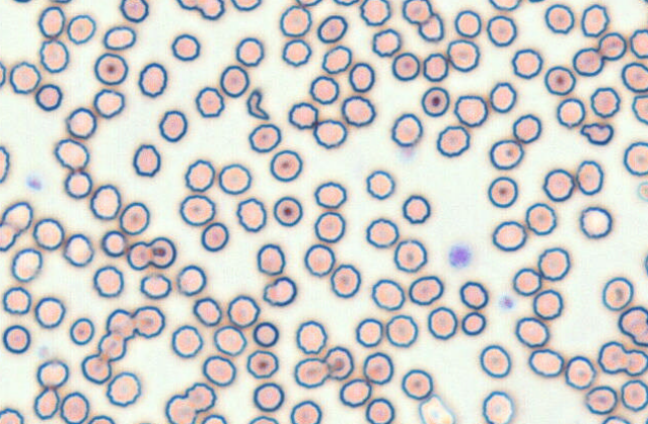PLT: (448, 242, 473, 269), (26, 172, 42, 191), (499, 293, 516, 310)
RBC: (105, 371, 141, 407), (617, 305, 648, 345), (53, 138, 89, 171), (226, 294, 260, 328), (393, 238, 427, 272), (390, 112, 423, 147), (453, 94, 488, 127), (93, 52, 128, 85), (89, 184, 121, 220), (179, 194, 215, 226), (131, 305, 165, 338), (170, 324, 203, 358), (537, 247, 570, 281), (436, 124, 470, 157), (542, 168, 575, 202), (601, 276, 633, 311), (370, 278, 405, 310), (329, 263, 361, 298), (340, 95, 375, 127), (293, 357, 329, 388), (491, 220, 527, 251), (481, 390, 514, 423), (385, 314, 418, 347), (579, 205, 612, 238), (446, 39, 479, 72), (269, 149, 302, 182), (564, 355, 596, 389), (295, 320, 327, 354), (479, 344, 511, 378), (303, 243, 335, 277), (9, 60, 41, 94), (323, 345, 354, 380), (11, 247, 42, 282), (201, 355, 236, 386), (514, 316, 549, 347), (312, 118, 347, 149), (38, 38, 69, 73), (235, 197, 266, 232), (400, 368, 433, 400), (32, 217, 64, 250), (65, 106, 97, 139), (279, 4, 311, 37), (525, 202, 557, 235), (218, 163, 251, 195), (362, 351, 393, 385), (63, 233, 94, 267), (365, 217, 399, 248), (489, 139, 523, 170), (262, 276, 297, 306), (408, 275, 443, 305), (137, 62, 167, 97), (528, 348, 564, 377), (575, 159, 604, 195), (1, 201, 33, 233), (92, 265, 124, 297), (313, 211, 345, 243), (597, 340, 628, 373), (213, 325, 246, 356), (184, 159, 215, 192), (119, 201, 149, 235), (427, 306, 457, 340), (219, 64, 249, 98), (532, 288, 563, 320), (34, 296, 65, 328), (487, 176, 518, 208), (36, 359, 69, 389), (92, 88, 125, 118), (248, 123, 281, 153), (132, 143, 161, 177), (580, 3, 609, 37), (80, 353, 111, 384), (511, 48, 542, 79), (184, 382, 216, 412), (59, 391, 89, 423), (252, 382, 284, 412), (176, 264, 206, 296), (590, 86, 620, 118), (584, 385, 617, 414), (158, 109, 187, 142), (105, 308, 135, 339), (420, 86, 450, 117), (544, 65, 575, 95), (365, 169, 395, 200), (486, 15, 516, 46), (272, 195, 302, 226), (544, 3, 574, 34), (147, 236, 176, 268), (339, 378, 371, 407), (246, 349, 278, 378), (256, 243, 285, 275), (572, 47, 604, 76), (313, 181, 346, 209), (192, 296, 222, 326), (66, 14, 96, 44), (165, 394, 196, 423), (200, 221, 229, 252), (316, 14, 347, 43), (321, 45, 352, 74), (556, 97, 585, 128), (195, 86, 224, 117), (37, 6, 65, 38), (33, 387, 60, 420), (97, 331, 126, 361), (309, 75, 339, 104), (371, 28, 401, 57), (401, 194, 430, 224), (235, 36, 264, 66), (391, 51, 420, 81), (512, 113, 541, 143), (287, 101, 318, 129), (620, 379, 647, 411), (139, 272, 171, 299), (489, 81, 516, 113), (102, 25, 136, 50), (2, 286, 31, 315), (512, 267, 541, 296), (459, 280, 488, 309), (597, 31, 626, 60), (355, 317, 383, 347), (2, 324, 30, 354), (623, 141, 647, 176), (281, 38, 311, 66), (348, 61, 375, 92), (359, 0, 391, 26), (64, 170, 92, 199), (453, 9, 481, 38), (171, 33, 200, 61), (417, 12, 444, 42), (621, 61, 647, 92), (289, 399, 322, 423), (34, 83, 62, 111), (365, 397, 395, 423), (422, 52, 448, 82), (100, 229, 127, 257), (126, 241, 152, 270), (401, 0, 432, 24), (252, 321, 279, 347), (69, 317, 94, 345), (119, 0, 149, 23), (625, 348, 648, 376), (461, 311, 486, 335), (196, 0, 225, 20), (629, 28, 647, 58), (0, 222, 17, 251), (631, 94, 647, 124), (0, 407, 24, 423), (0, 145, 10, 183), (488, 0, 521, 11), (230, 0, 261, 11), (200, 413, 227, 423), (247, 415, 279, 423), (87, 414, 115, 423), (600, 415, 631, 423), (176, 0, 197, 10), (637, 180, 647, 201), (295, 0, 322, 7), (0, 60, 6, 87), (332, 0, 359, 6), (643, 251, 648, 277), (48, 0, 72, 4), (11, 0, 33, 3), (527, 0, 546, 3), (638, 0, 648, 4)
Schistocyte: (419, 394, 457, 424), (246, 88, 270, 121), (581, 121, 614, 145)
